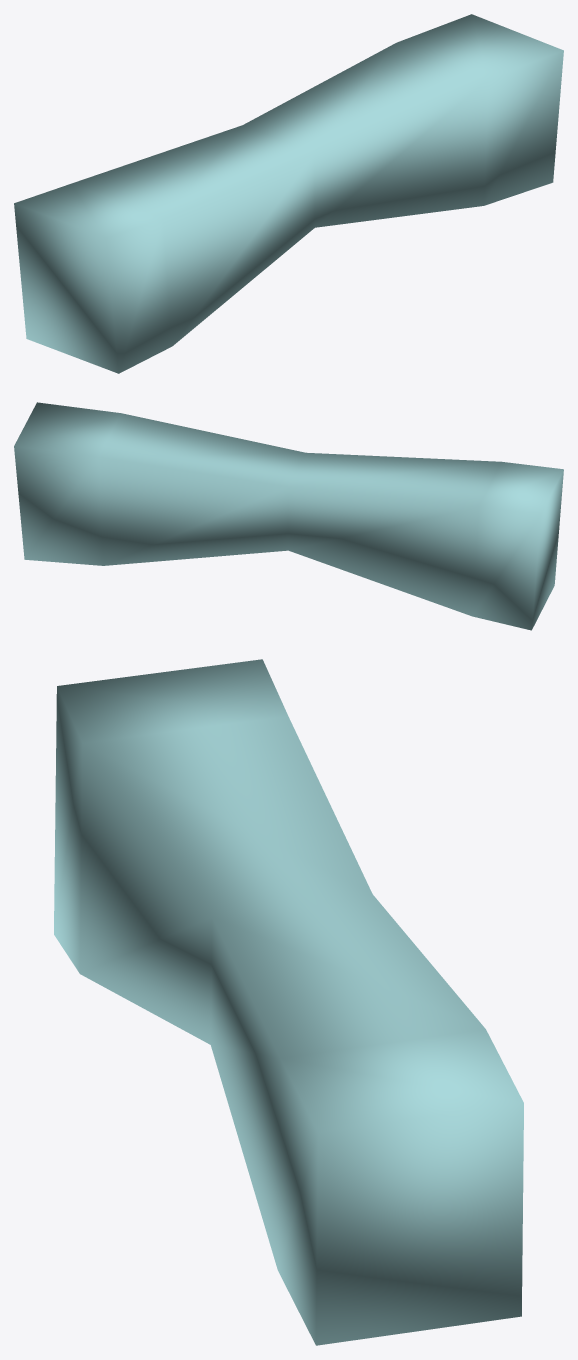
The model's file is Skelly_palm.01.R.fbx.
3 views of the same model, one above another, from view 1: azimuth 30°, elevation 25°; view 2: azimuth 150°, elevation 25°; view 3: azimuth 270°, elevation 25° (orthographic). The views are drawn at different scales.
Parts seen in each view (by area): view 1: Skelly_palm.01.R; view 2: Skelly_palm.01.R; view 3: Skelly_palm.01.R.
Boxes of the visible parts, <box> form: Skelly_palm.01.R: <box>14,14,563,373</box>; Skelly_palm.01.R: <box>14,402,563,630</box>; Skelly_palm.01.R: <box>54,659,523,1345</box>.
Size of the model in its own units: 9.04 by 2.17 by 3.76.
